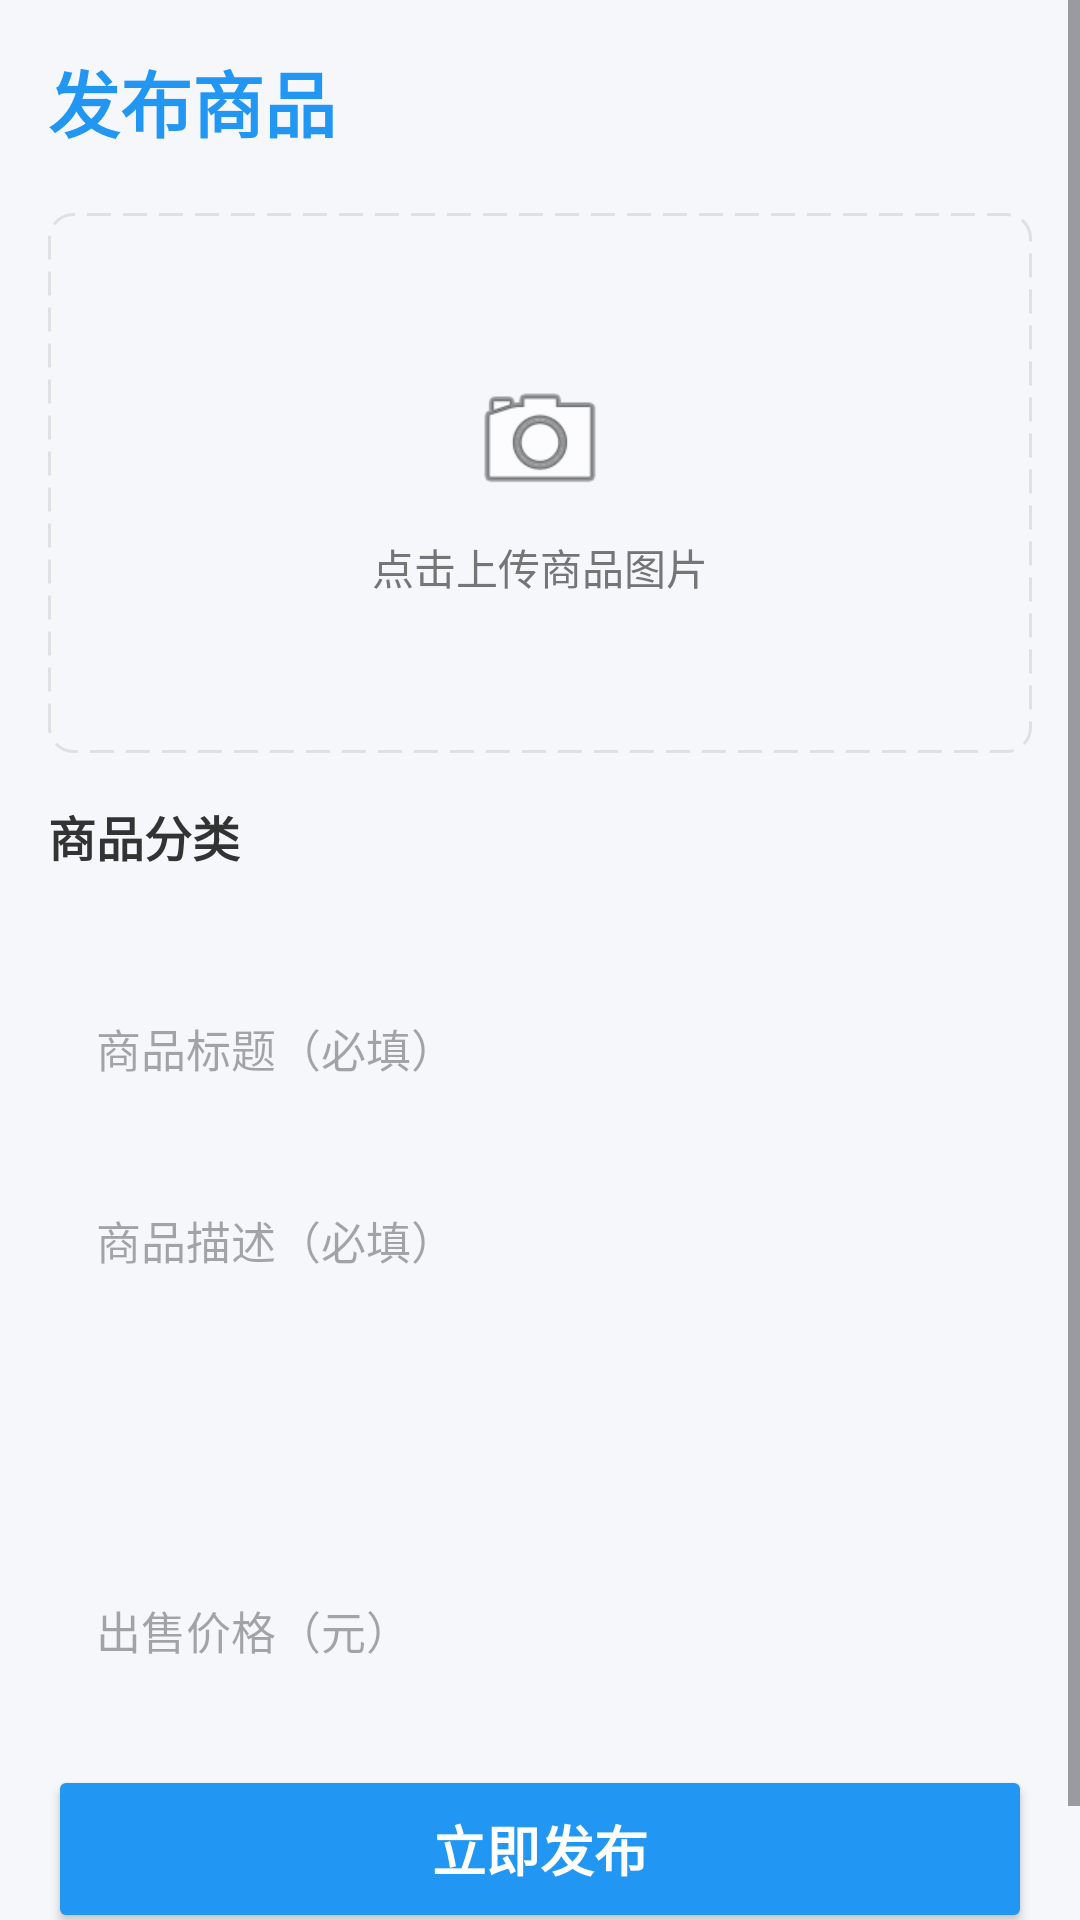

Where to tap for icons on this 1080*1920 app screen, as (x=x, y=y):
camera: (x=540, y=437)
